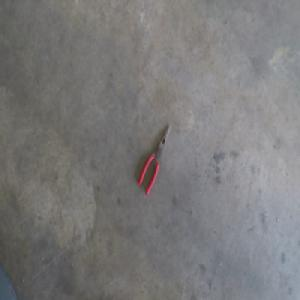Pliers: (137, 128, 170, 200)
